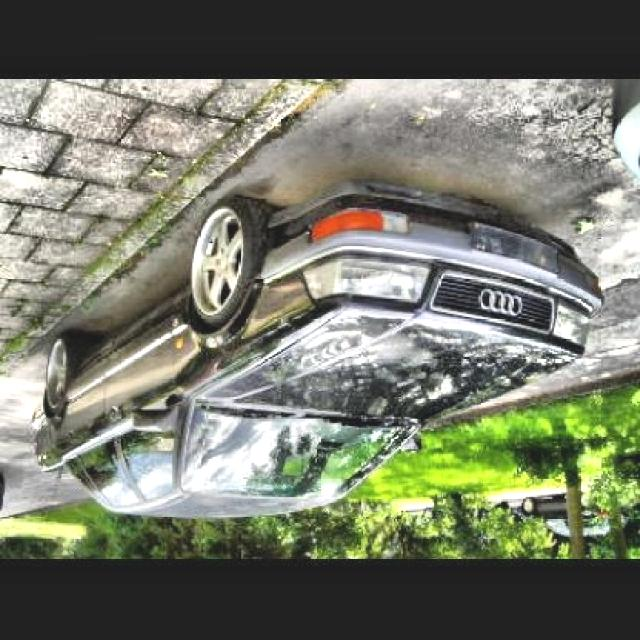black: (27, 201, 606, 526)
